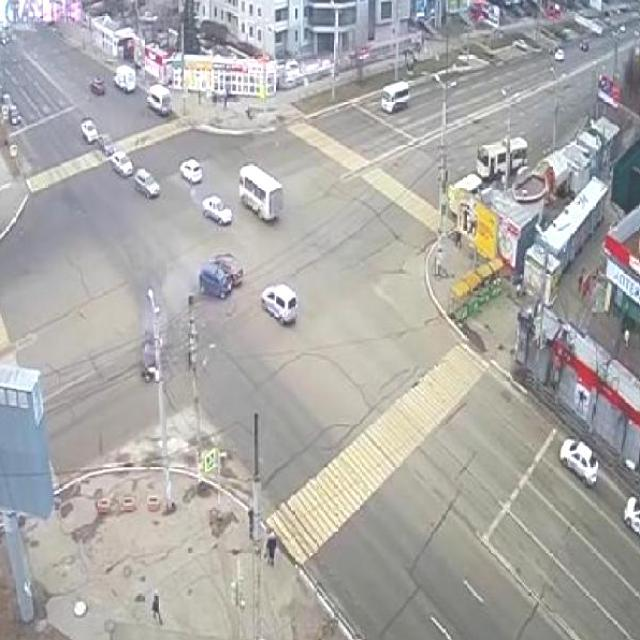accident: (196, 251, 245, 301)
